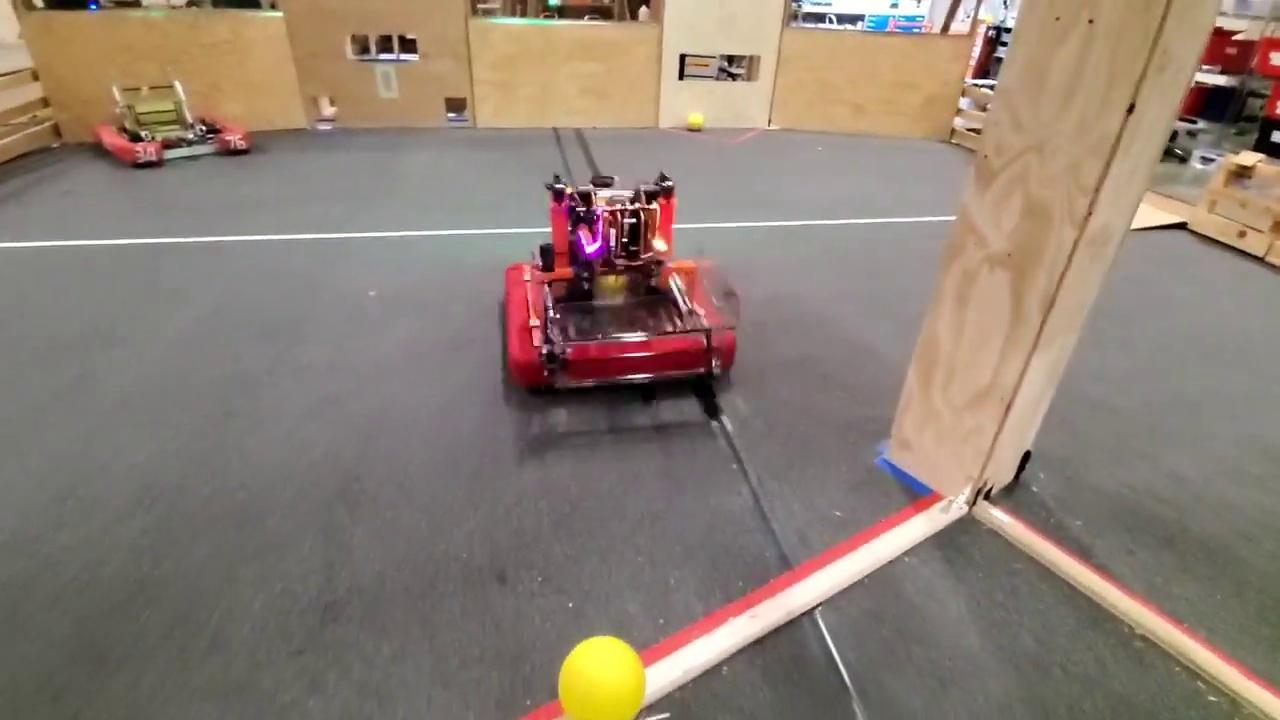robot: (496, 172, 743, 396), (89, 79, 250, 169)
